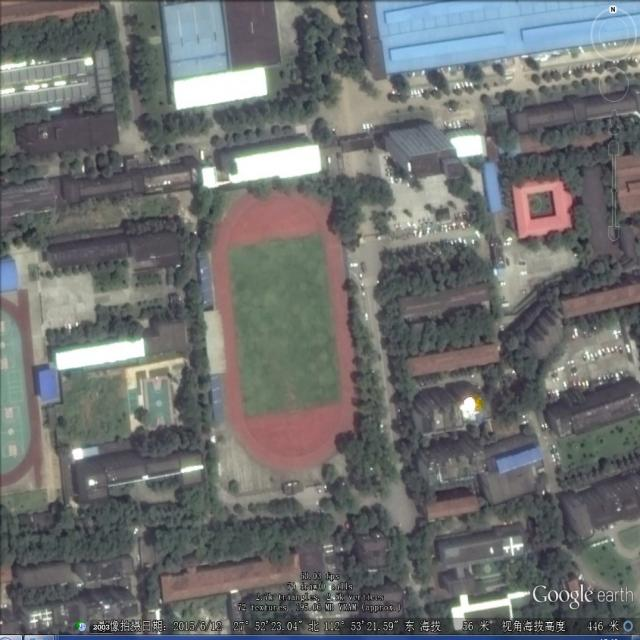playground: (210, 182, 365, 479)
